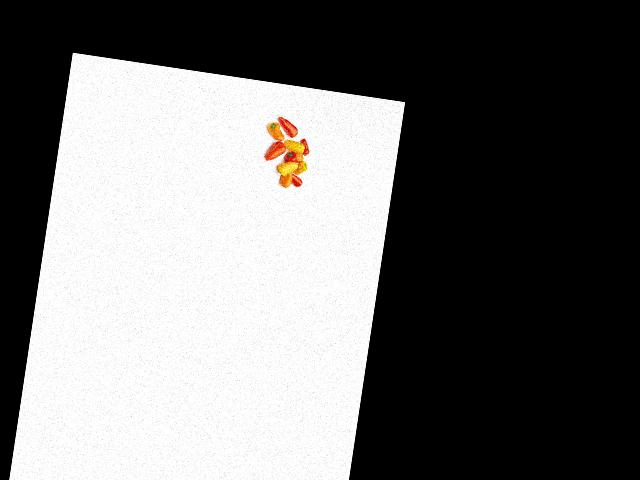bell_pepper: (300, 136, 312, 157)
